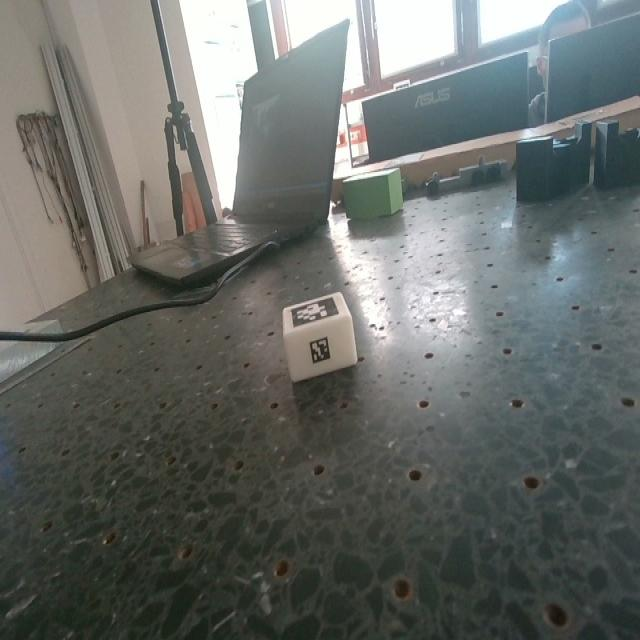Cube: (281, 289, 356, 382)
